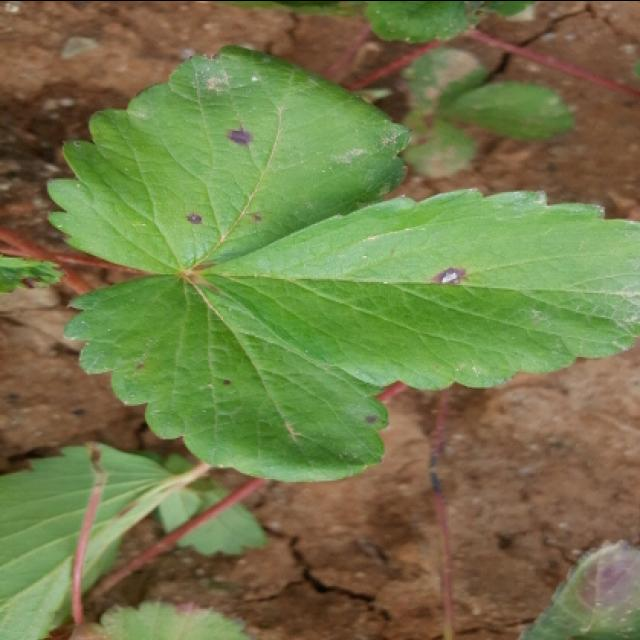Leaf Spot: (192, 187, 638, 390), (46, 43, 414, 274), (62, 273, 387, 481), (67, 597, 266, 640), (400, 108, 478, 179)
